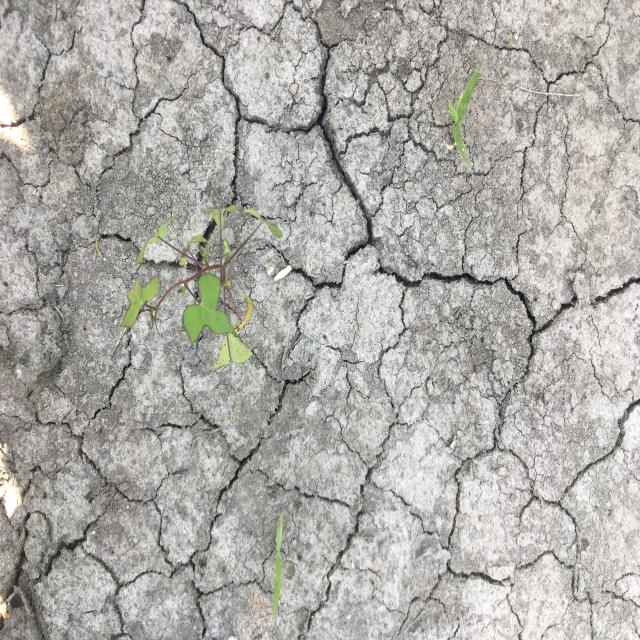MorningGlory: (118, 203, 284, 374)
